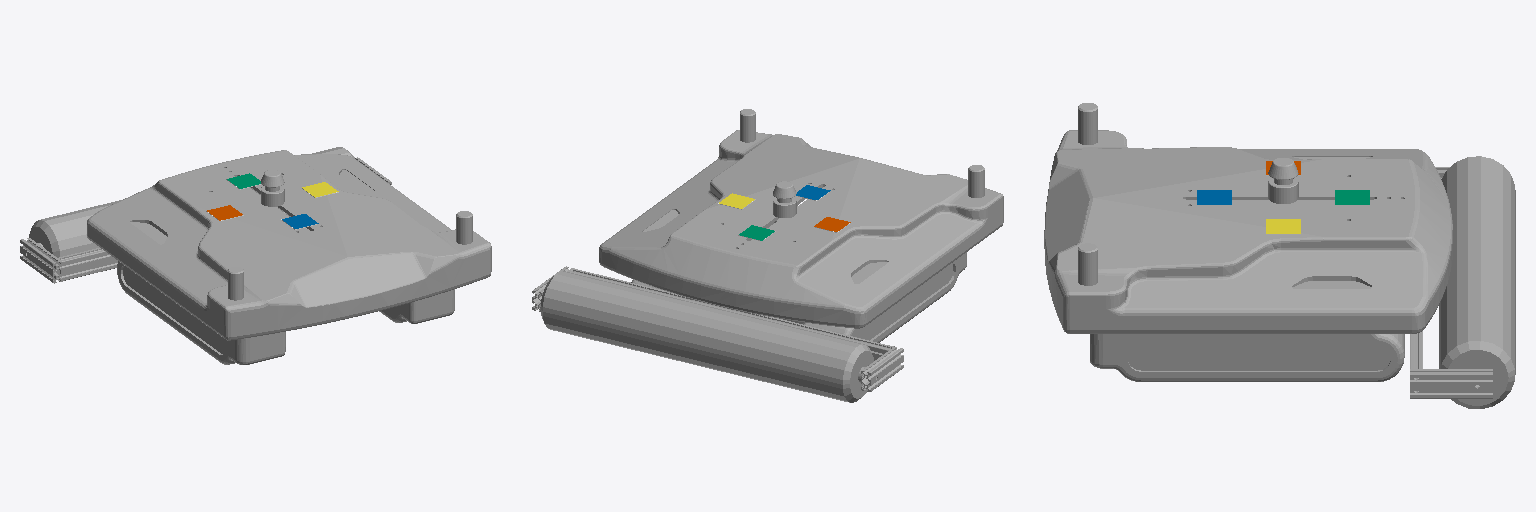
robot.urdf — newxiaolan2id_dock_mode5:
<?xml version="1.0" encoding="utf-8"?>
<!-- This URDF was automatically created by SolidWorks to URDF Exporter! Originally created by Stephen Brawner (brawner@gmail.com)
     Commit Version: 1.6.0-4-g7f85cfe  Build Version: 1.6.7995.38578
     For more information, please see http://wiki.ros.org/sw_urdf_exporter -->
<robot
  name="newxiaolan2id_dock_mode5">
  <link
    name="base_link_newxiaolan">
    <inertial>
      <origin
        xyz="2.5518E-08 0.10298 0.081761"
        rpy="0 0 0" />
      <mass
        value="11.467" />
      <inertia
        ixx="0.12338"
        ixy="-1.1714E-07"
        ixz="-7.2629E-09"
        iyy="0.30254"
        iyz="0.00039088"
        izz="0.40629" />
    </inertial>
    <visual>
      <origin
        xyz="0 0 0"
        rpy="0 0 0" />
      <geometry>
        <mesh
          filename="../meshes/base_link_newxiaolan.STL" />
      </geometry>
      <material
        name="">
        <color
          rgba="0.70588 0.70588 0.70588 1" />
      </material>
    </visual>
    <collision>
      <origin
        xyz="0 0 0"
        rpy="0 0 0" />
      <geometry>
        <mesh
          filename="../meshes/base_link_newxiaolan.STL" />
      </geometry>
    </collision>
  </link>
  <link
    name="Empty_Link_newxiaolan">
    <inertial>
      <origin
        xyz="2.5518E-08 0.10298 0.081761"
        rpy="0 0 0" />
      <mass
        value="11.467" />
      <inertia
        ixx="0.12338"
        ixy="-1.1714E-07"
        ixz="-7.2629E-09"
        iyy="0.30254"
        iyz="0.00039088"
        izz="0.40629" />
    </inertial>
    <visual>
      <origin
        xyz="0 0 0"
        rpy="0 0 0" />
      <geometry>
        <mesh
          filename="../meshes/Empty_Link_newxiaolan.STL" />
      </geometry>
      <material
        name="">
        <color
          rgba="0.70588 0.70588 0.70588 1" />
      </material>
    </visual>
    <collision>
      <origin
        xyz="0 0 0"
        rpy="0 0 0" />
      <geometry>
        <mesh
          filename="../meshes/Empty_Link_newxiaolan.STL" />
      </geometry>
    </collision>
  </link>
  <joint
    name="newxiaolan_joint"
    type="fixed">
    <origin
      xyz="0 0 0"
      rpy="0 0 0" />
    <parent
      link="base_link_newxiaolan" />
    <child
      link="Empty_Link_newxiaolan" />
    <axis
      xyz="0 0 0" />
  </joint>
  <link
    name="Empty_Link_ID0">
    <inertial>
      <origin
        xyz="1.1505E-15 0.08 0.1905"
        rpy="0 0 0" />
      <mass
        value="0.0025" />
      <inertia
        ixx="5.2104E-07"
        ixy="4.4842E-39"
        ixz="6.8932E-25"
        iyy="5.2104E-07"
        iyz="0"
        izz="1.0417E-06" />
    </inertial>
    <visual>
      <origin
        xyz="0 0 0"
        rpy="0 0 0" />
      <geometry>
        <mesh
          filename="../meshes/Empty_Link_ID0.STL" />
      </geometry>
      <material
        name="">
        <color
          rgba="1 1 1 1" />
      </material>
    </visual>
    <!-- 40 mm AprilTag ID0, placed 0.2 mm above the platform top face. -->
    <visual
      name="apriltag_ID0">
      <origin
        xyz="0 0.08 0.1912"
        rpy="0 0 0" />
      <geometry>
        <mesh
          filename="../meshes/apriltag/ID0_dock_mode5.obj" />
      </geometry>
    </visual>
    <collision>
      <origin
        xyz="0 0 0"
        rpy="0 0 0" />
      <geometry>
        <mesh
          filename="../meshes/Empty_Link_ID0.STL" />
      </geometry>
    </collision>
  </link>
  <joint
    name="ID0_joint"
    type="fixed">
    <origin
      xyz="0 -0.008 0"
      rpy="0 0 0" />
    <parent
      link="Empty_Link_newxiaolan" />
    <child
      link="Empty_Link_ID0" />
    <axis
      xyz="0 0 0" />
  </joint>
  <link
    name="Empty_Link_ID1">
    <inertial>
      <origin
        xyz="0.108 -0.028 0.1905"
        rpy="0 0 0" />
      <mass
        value="0.0025" />
      <inertia
        ixx="5.2104E-07"
        ixy="-1.3553E-23"
        ixz="5.1848E-40"
        iyy="5.2104E-07"
        iyz="6.8932E-25"
        izz="1.0417E-06" />
    </inertial>
    <visual>
      <origin
        xyz="0 0 0"
        rpy="0 0 0" />
      <geometry>
        <mesh
          filename="../meshes/Empty_Link_ID1.STL" />
      </geometry>
      <material
        name="">
        <color
          rgba="1 1 1 1" />
      </material>
    </visual>
    <!-- 40 mm AprilTag ID1, placed 0.2 mm above the platform top face. -->
    <visual
      name="apriltag_ID1">
      <origin
        xyz="0.108 -0.028 0.1912"
        rpy="0 0 0" />
      <geometry>
        <mesh
          filename="../meshes/apriltag/ID1_dock_mode5.obj" />
      </geometry>
    </visual>
    <collision>
      <origin
        xyz="0 0 0"
        rpy="0 0 0" />
      <geometry>
        <mesh
          filename="../meshes/Empty_Link_ID1.STL" />
      </geometry>
    </collision>
  </link>
  <joint
    name="ID1_joint"
    type="fixed">
    <origin
      xyz="-0.008 0 0"
      rpy="0 0 0" />
    <parent
      link="Empty_Link_newxiaolan" />
    <child
      link="Empty_Link_ID1" />
    <axis
      xyz="0 0 0" />
  </joint>
  <link
    name="Empty_Link_ID2">
    <inertial>
      <origin
        xyz="1.1519E-15 -0.136 0.1905"
        rpy="0 0 0" />
      <mass
        value="0.0025" />
      <inertia
        ixx="5.2104E-07"
        ixy="0"
        ixz="6.8932E-25"
        iyy="5.2104E-07"
        iyz="6.8932E-25"
        izz="1.0417E-06" />
    </inertial>
    <visual>
      <origin
        xyz="0 0 0"
        rpy="0 0 0" />
      <geometry>
        <mesh
          filename="../meshes/Empty_Link_ID2.STL" />
      </geometry>
      <material
        name="">
        <color
          rgba="1 1 1 1" />
      </material>
    </visual>
    <!-- 40 mm AprilTag ID2, placed 0.2 mm above the platform top face. -->
    <visual
      name="apriltag_ID2">
      <origin
        xyz="0 -0.136 0.1912"
        rpy="0 0 0" />
      <geometry>
        <mesh
          filename="../meshes/apriltag/ID2_dock_mode5.obj" />
      </geometry>
    </visual>
    <collision>
      <origin
        xyz="0 0 0"
        rpy="0 0 0" />
      <geometry>
        <mesh
          filename="../meshes/Empty_Link_ID2.STL" />
      </geometry>
    </collision>
  </link>
  <joint
    name="ID2_joint"
    type="fixed">
    <origin
      xyz="0 0.008 0"
      rpy="0 0 0" />
    <parent
      link="Empty_Link_newxiaolan" />
    <child
      link="Empty_Link_ID2" />
    <axis
      xyz="0 0 0" />
  </joint>
  <link
    name="Empty_Link_ID3">
    <inertial>
      <origin
        xyz="-0.108 -0.028 0.1905"
        rpy="0 0 0" />
      <mass
        value="0.0025" />
      <inertia
        ixx="5.2104E-07"
        ixy="-2.8234E-23"
        ixz="-3.1755E-40"
        iyy="5.2104E-07"
        iyz="1.1267E-40"
        izz="1.0417E-06" />
    </inertial>
    <visual>
      <origin
        xyz="0 0 0"
        rpy="0 0 0" />
      <geometry>
        <mesh
          filename="../meshes/Empty_Link_ID3.STL" />
      </geometry>
      <material
        name="">
        <color
          rgba="1 1 1 1" />
      </material>
    </visual>
    <!-- 40 mm AprilTag ID3, placed 0.2 mm above the platform top face. -->
    <visual
      name="apriltag_ID3">
      <origin
        xyz="-0.108 -0.028 0.1912"
        rpy="0 0 0" />
      <geometry>
        <mesh
          filename="../meshes/apriltag/ID3_dock_mode5.obj" />
      </geometry>
    </visual>
    <collision>
      <origin
        xyz="0 0 0"
        rpy="0 0 0" />
      <geometry>
        <mesh
          filename="../meshes/Empty_Link_ID3.STL" />
      </geometry>
    </collision>
  </link>
  <joint
    name="ID3_joint"
    type="fixed">
    <origin
      xyz="0.008 0 0"
      rpy="0 0 0" />
    <parent
      link="Empty_Link_newxiaolan" />
    <child
      link="Empty_Link_ID3" />
    <axis
      xyz="0 0 0" />
  </joint>
</robot>

--- Facts derived from the render (not from the file) ---
3 views of the same robot in one strip: view 1: azimuth 30°, elevation 25°; view 2: azimuth 150°, elevation 25°; view 3: azimuth 270°, elevation 25° (orthographic).
Robot: newxiaolan2id_dock_mode5 — 6 links, 5 joints (5 fixed); root link base_link_newxiaolan; default pose: all joints at 0.
Links seen in each view (by area): view 1: base_link_newxiaolan; view 2: base_link_newxiaolan; view 3: base_link_newxiaolan, Empty_Link_ID1, Empty_Link_ID0, Empty_Link_ID2.
Link boxes in pixels (box(x1,y1,x2,y2)): base_link_newxiaolan: box(20, 147, 491, 364); base_link_newxiaolan: box(532, 109, 1003, 402); base_link_newxiaolan: box(1044, 103, 1515, 408); Empty_Link_ID1: box(1266, 219, 1300, 234); Empty_Link_ID0: box(1335, 190, 1369, 204); Empty_Link_ID2: box(1197, 190, 1231, 204).
Size in the robot's own frame: 0.71 by 0.68 by 0.248 metres.
Meshes: 10 distinct files referenced, 10 mesh visuals loaded (6 binary STL, 4 OBJ).
